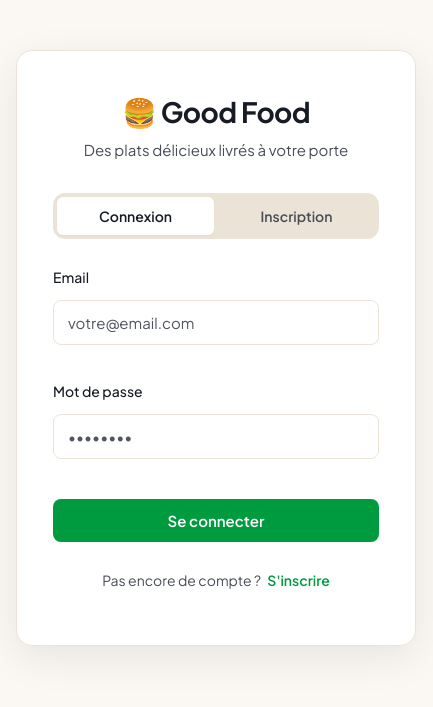
Scenario: Auth Component › displays error message on failed login
The image size is (433, 707).
Type "wrong@example.com" into the field with placeholder "votre@email.com" at (216, 323), box [53,300,379,345]
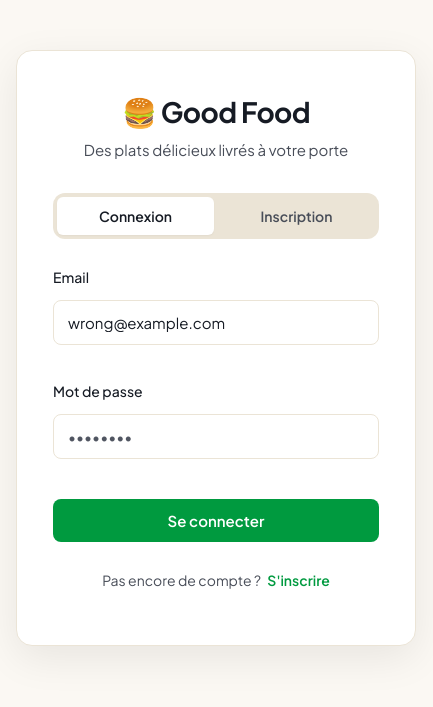
Type "wrongpass" into the password field with placeholder "••••••••" at (216, 437), box [53,414,379,459]
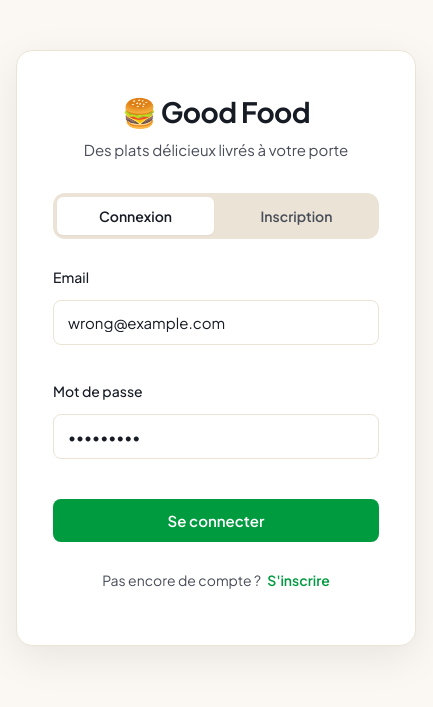
Click the button "Se connecter" at (216, 521), box [53,499,379,542]
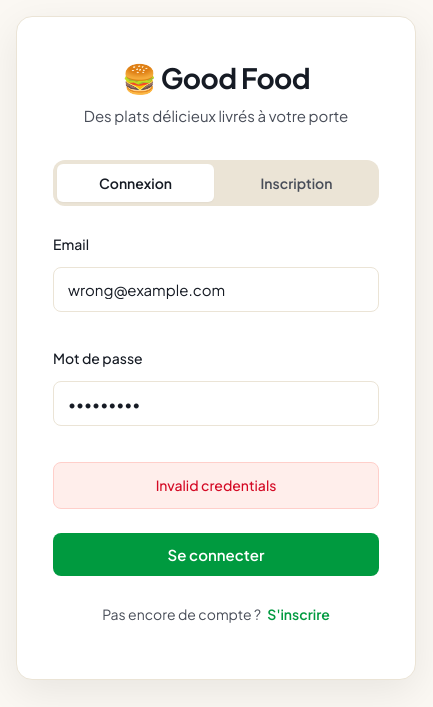
Expected: the text "Invalid credentials" is shown, [53,462,379,509]
